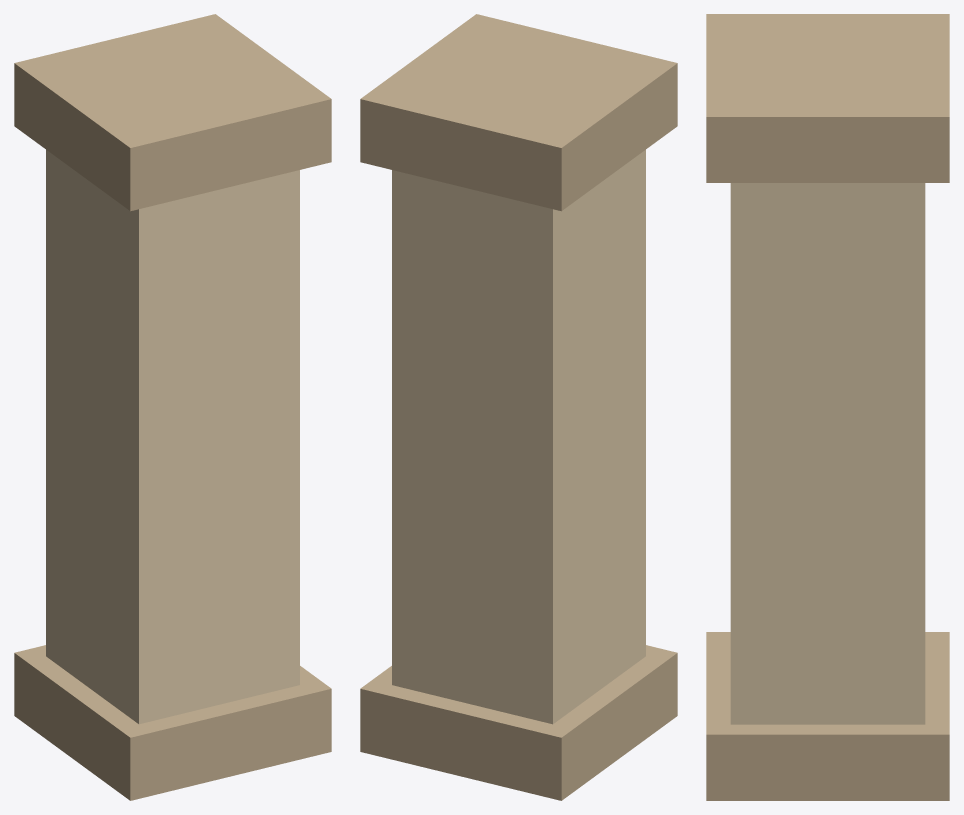
File: SD_Pillar.fbx
3 renders of one model, left to right at view 1: azimuth 30°, elevation 25°; view 2: azimuth 150°, elevation 25°; view 3: azimuth 270°, elevation 25°, orthographic. The views are drawn at different scales.
Parts seen in each view (by area): view 1: SD_Pillar; view 2: SD_Pillar; view 3: SD_Pillar.
Part boxes in pixels (box(x1,y1,x2,y2)): SD_Pillar: box(14, 14, 331, 800); SD_Pillar: box(360, 14, 677, 800); SD_Pillar: box(706, 14, 949, 800).
Size of the model in its own units: 1 by 3.1 by 1.
